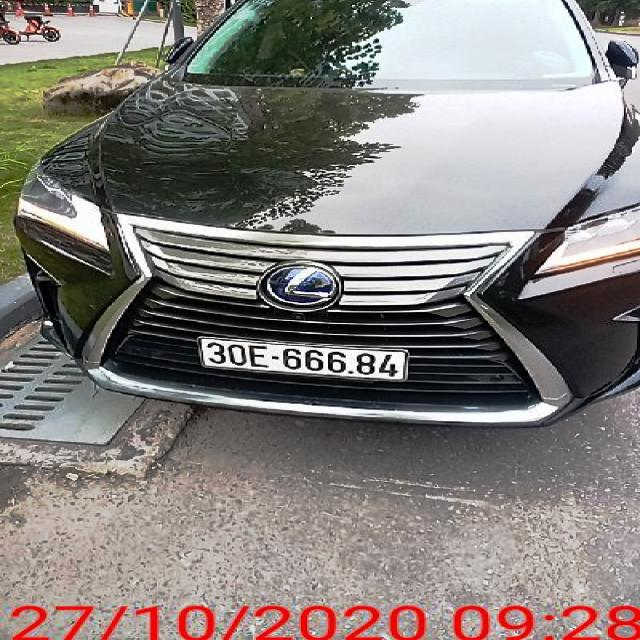license_plate: (203, 338, 408, 380)
